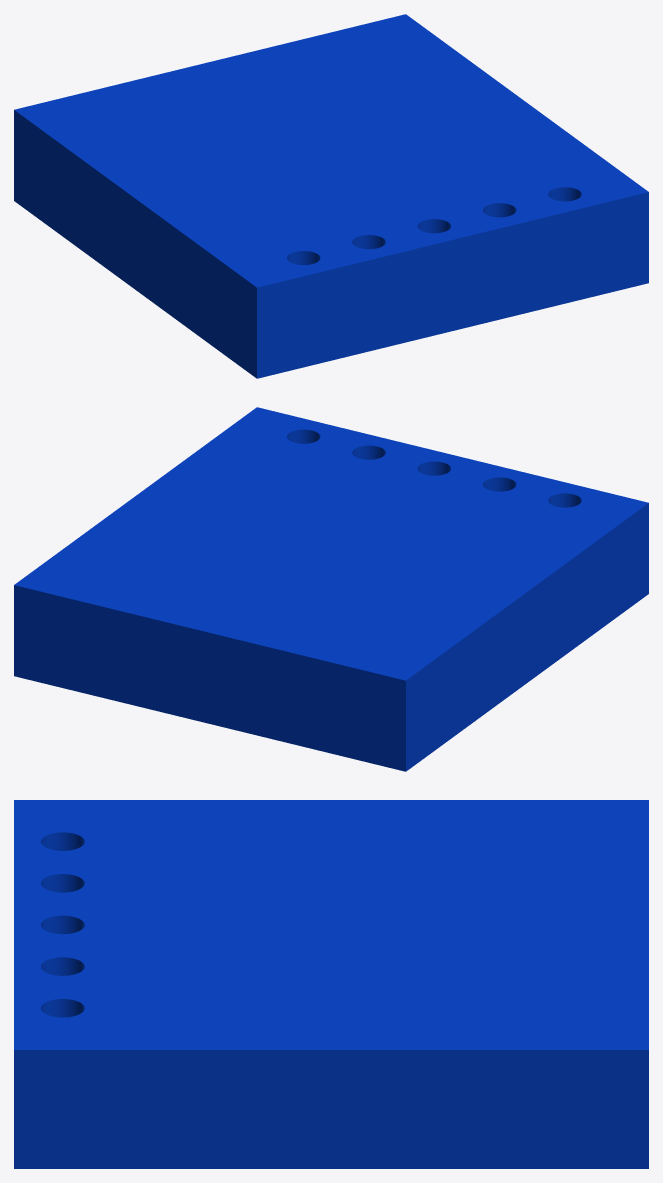
The model's file is Sensor_HW-246-HW-246.gltf.
3 views of the same model, one above another, from view 1: azimuth 30°, elevation 25°; view 2: azimuth 150°, elevation 25°; view 3: azimuth 270°, elevation 25° (orthographic). The views are drawn at different scales.
Parts seen in each view (by area): view 1: HW-246; view 2: HW-246; view 3: HW-246.
Boxes of the visible parts, x1,y1,x2,y2 form: HW-246: (14,14,648,378); HW-246: (14,407,648,771); HW-246: (14,800,648,1168).
Size of the model in its own units: 0.0135 by 0.003 by 0.0145.
